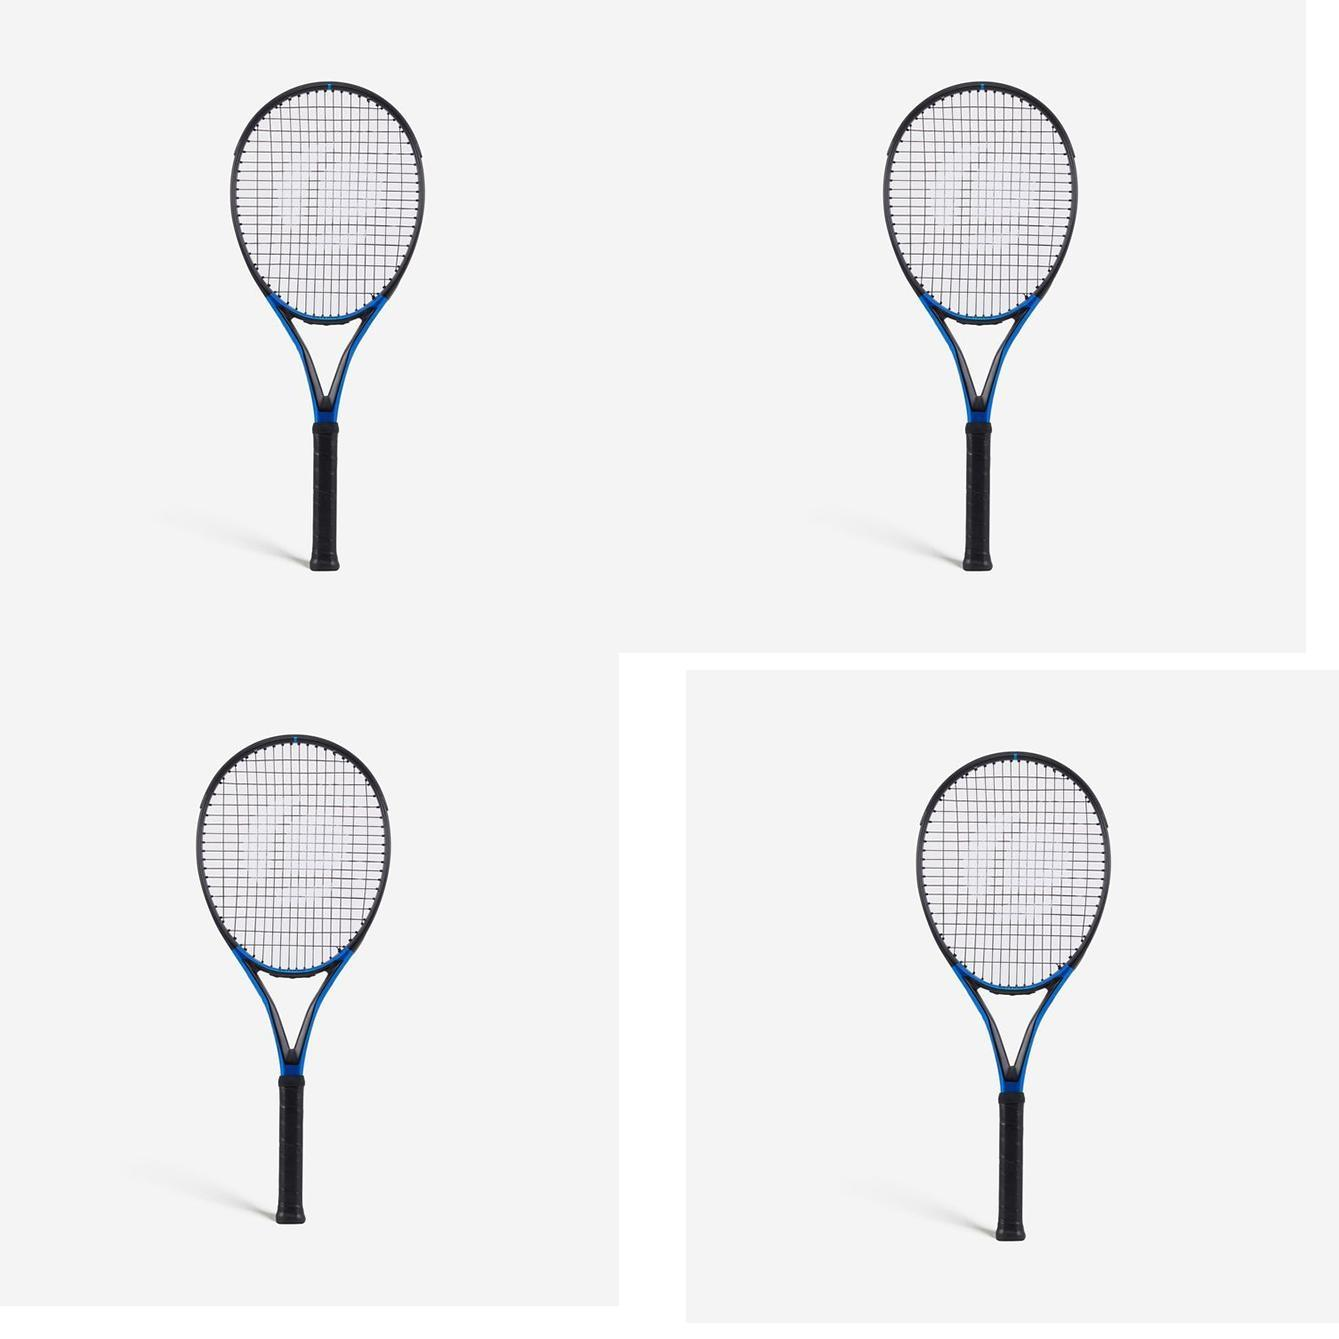Tennis-Racket: (887, 733, 1123, 1257), (202, 733, 389, 1225), (233, 83, 419, 574), (888, 81, 1070, 576)
